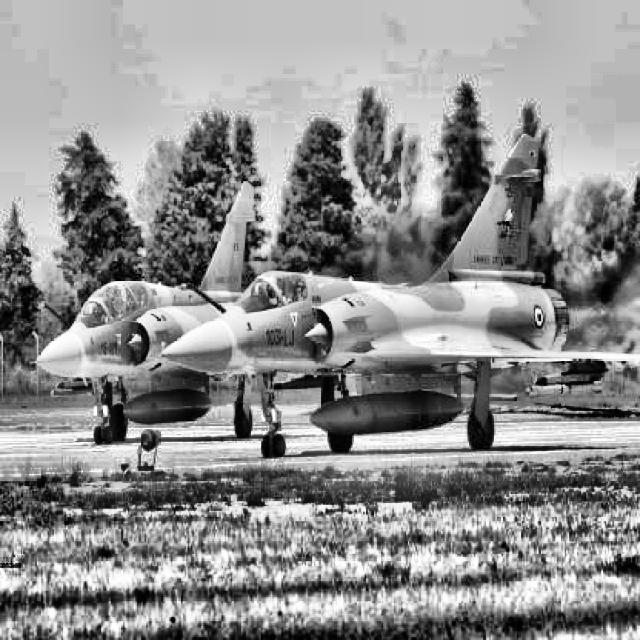Mirage2000: (150, 134, 639, 458), (28, 181, 347, 444)
